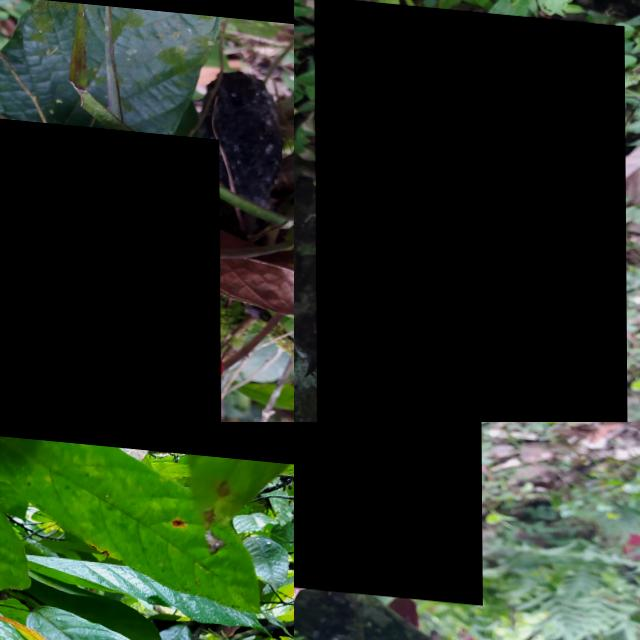Monilia: (314, 0, 627, 422), (0, 111, 221, 422), (294, 422, 482, 596)
